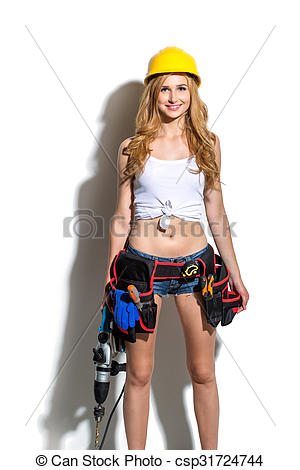Person_wearing_helmet: (135, 39, 206, 93)
